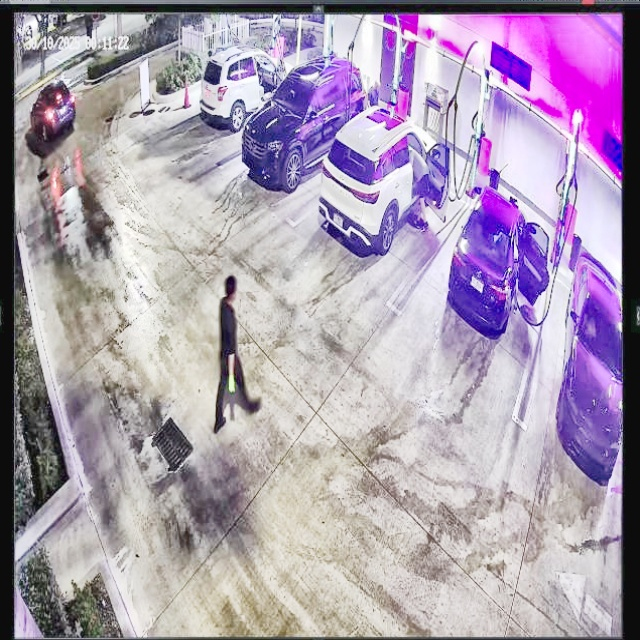Car: (321, 101, 451, 253), (245, 54, 368, 186), (451, 186, 546, 340)
